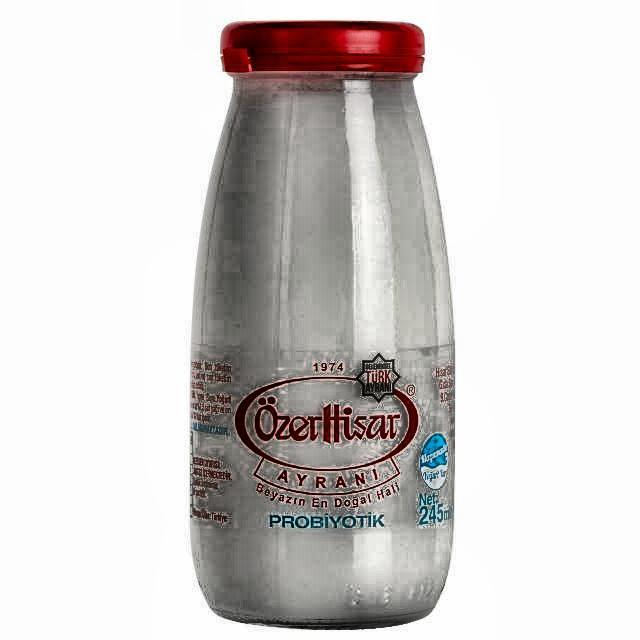glass: (188, 20, 458, 634)
